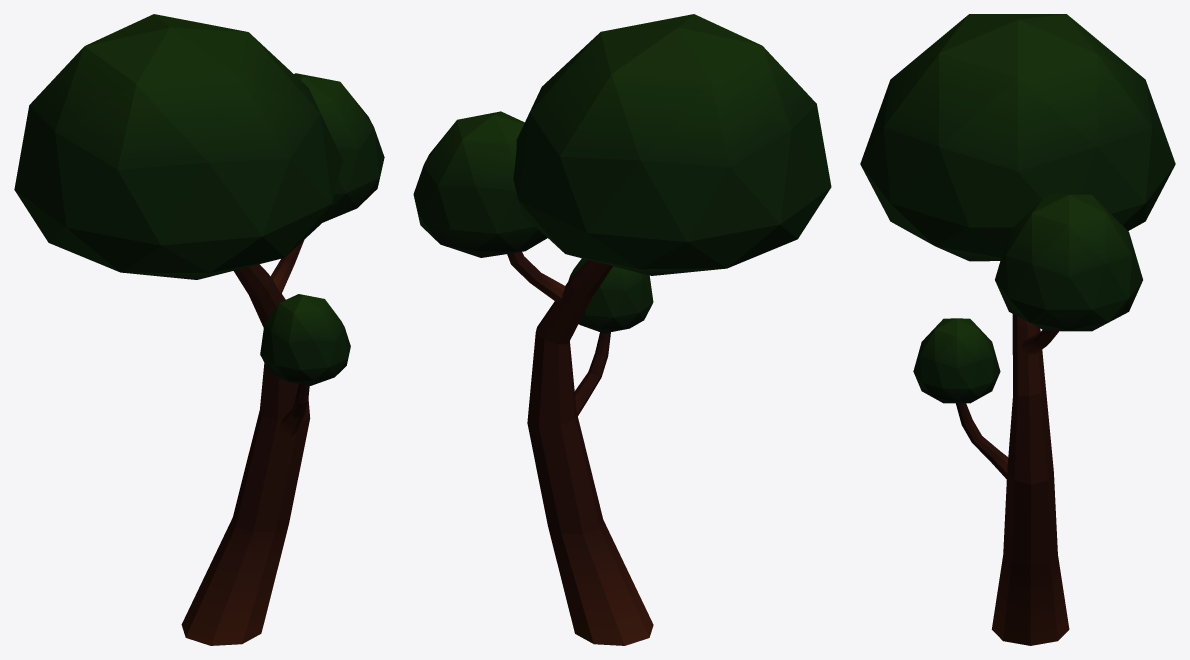
Rendered from Twisted Maple 2.fbx.
3 renders of one model, left to right at view 1: azimuth 30°, elevation 25°; view 2: azimuth 150°, elevation 25°; view 3: azimuth 270°, elevation 25°, orthographic. The views are drawn at different scales.
Visible parts, largest first — view 1: Maple Tree 2; view 2: Maple Tree 2; view 3: Maple Tree 2.
Boxes of the visible parts, bbox=[...] form: Maple Tree 2: bbox=[14, 14, 384, 645]; Maple Tree 2: bbox=[413, 14, 831, 645]; Maple Tree 2: bbox=[860, 14, 1175, 645].
Size of the model in its own units: 286 by 472 by 232.
